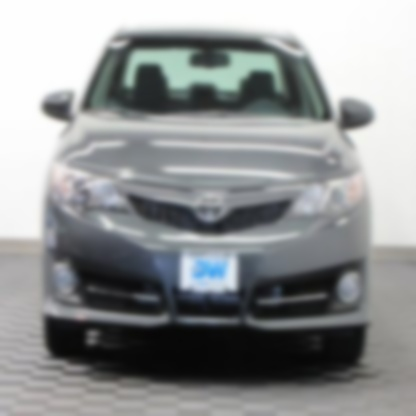Vehicle: (37, 22, 376, 375)
